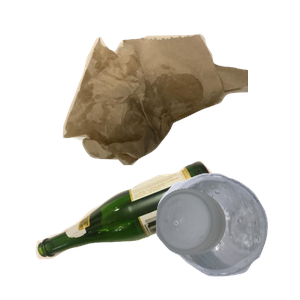glass: (33, 158, 246, 300)
paper: (63, 61, 242, 206)
plastic: (153, 170, 300, 300)
trash: (60, 31, 300, 189)
